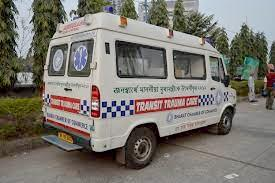ambulance: (45, 17, 231, 137)
